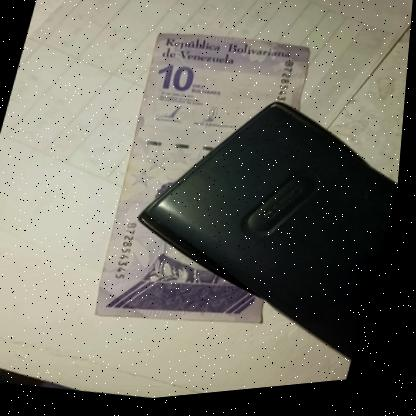ten-front-vef: (33, 81, 362, 337)
